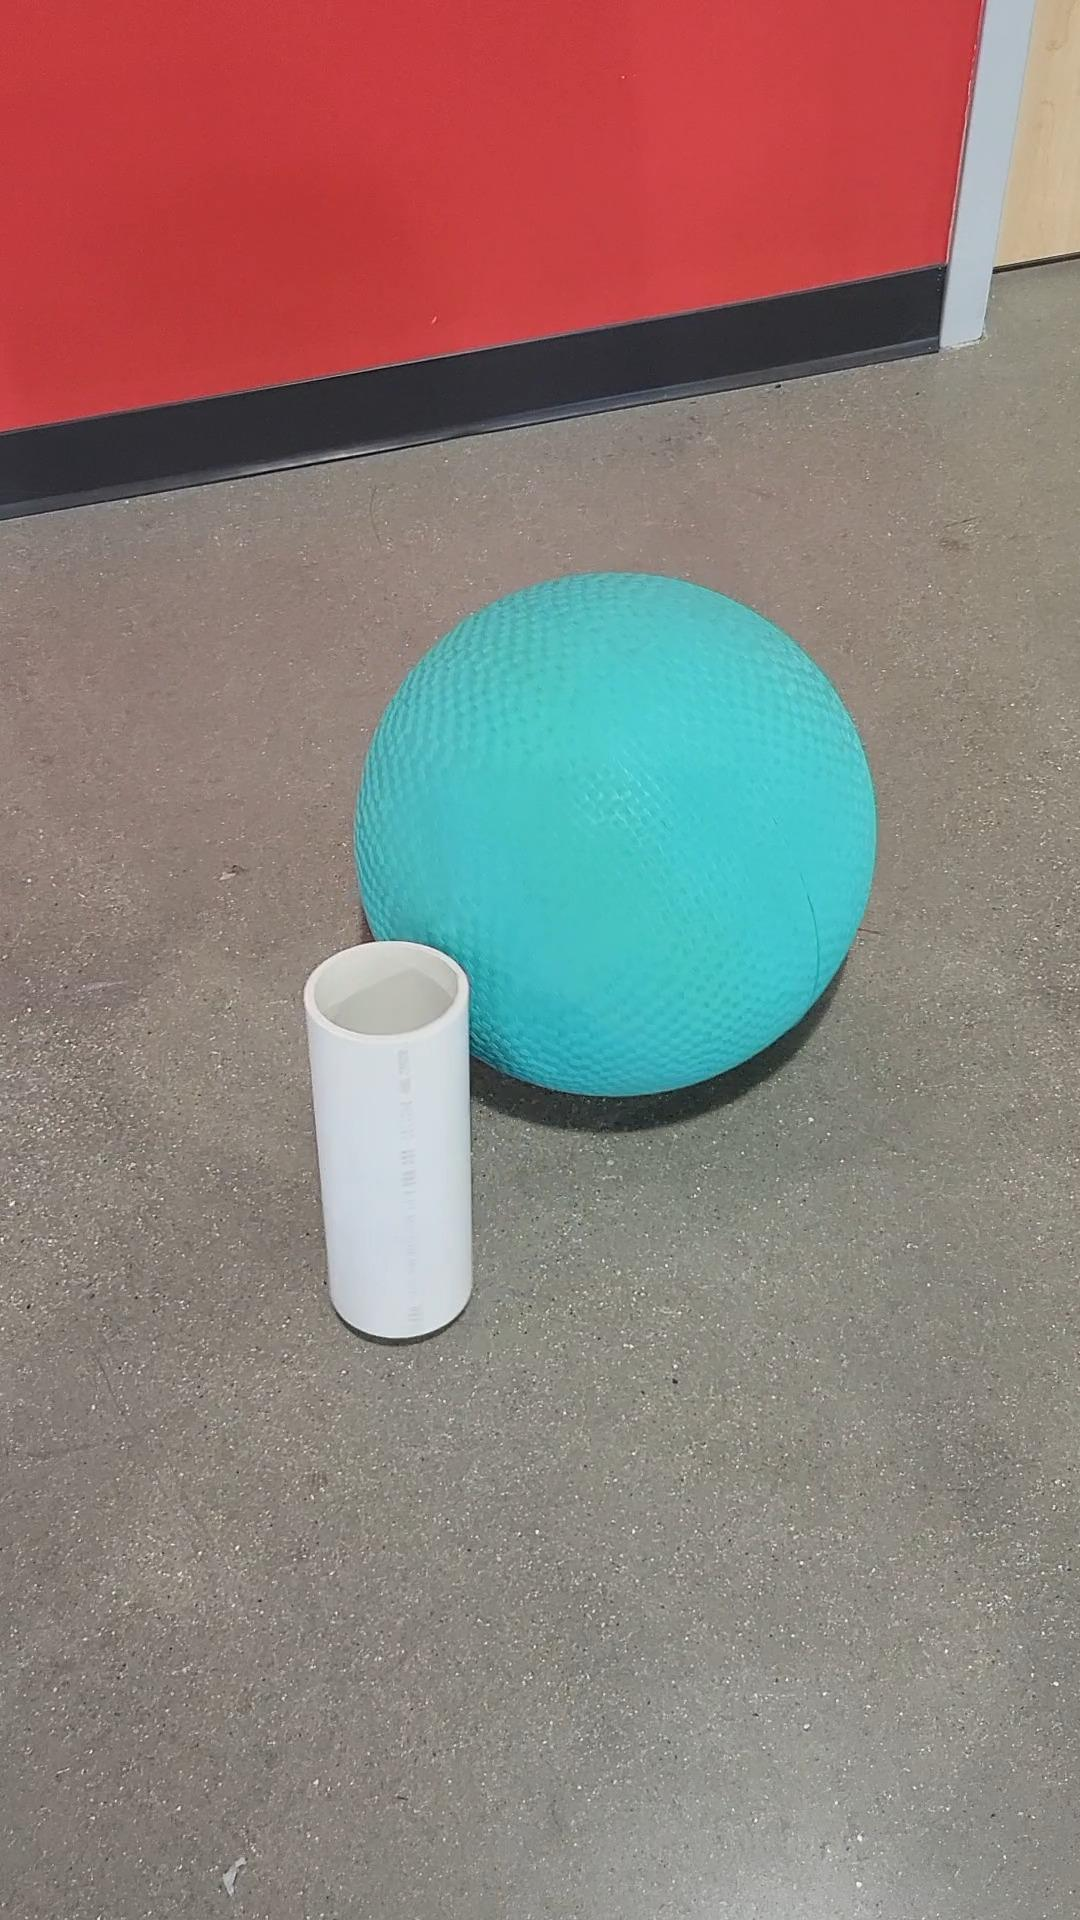algae: (353, 566, 881, 1098)
coral: (305, 940, 475, 1342)
